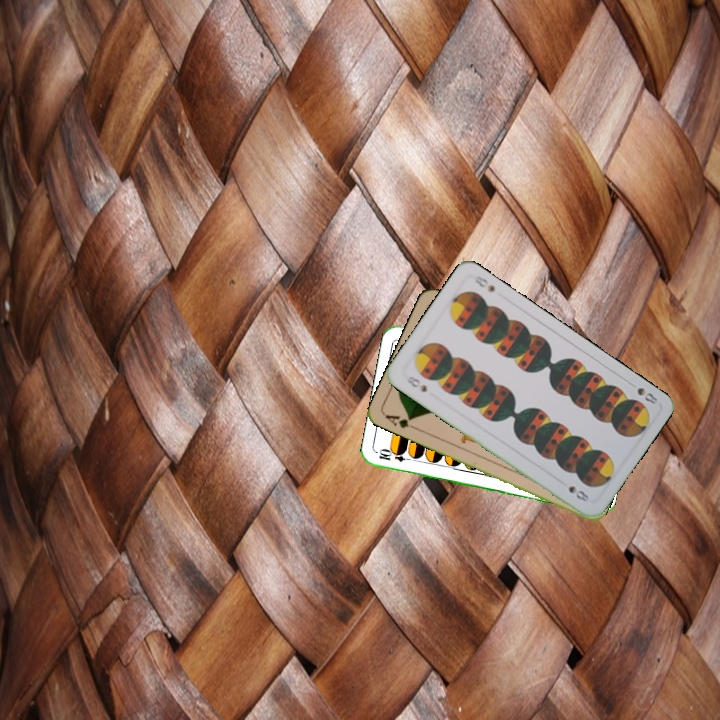E10: (375, 447, 415, 465)
GA: (381, 410, 420, 432)
S8: (624, 377, 660, 407), (402, 372, 430, 395)
